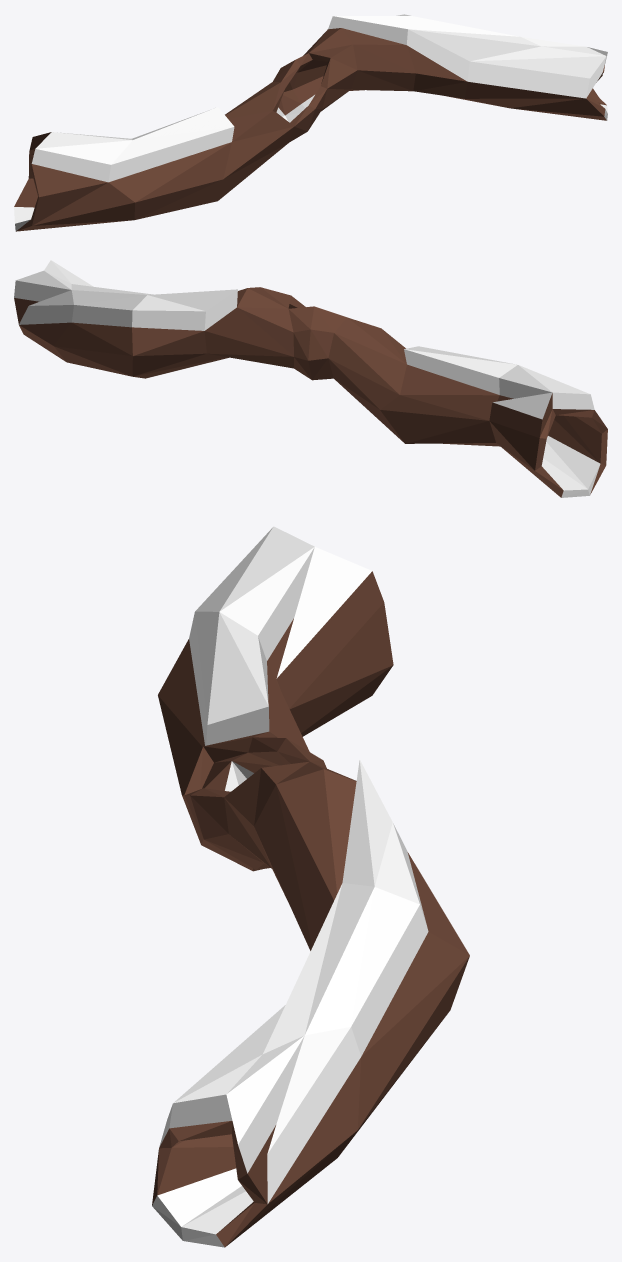
Rendered from Wooden Log_3_Snow.fbx.
3 renders of one model, top to bottom at view 1: azimuth 30°, elevation 25°; view 2: azimuth 150°, elevation 25°; view 3: azimuth 270°, elevation 25°, orthographic. The views are drawn at different scales.
Visible parts, largest first — view 1: Wooden Log_3_Snow; view 2: Wooden Log_3_Snow; view 3: Wooden Log_3_Snow.
Part boxes in pixels (bbox=[...]): Wooden Log_3_Snow: bbox=[14, 14, 607, 231]; Wooden Log_3_Snow: bbox=[14, 260, 607, 497]; Wooden Log_3_Snow: bbox=[152, 526, 469, 1247].
Size of the model in its own units: 5.17 by 1.12 by 1.24.
